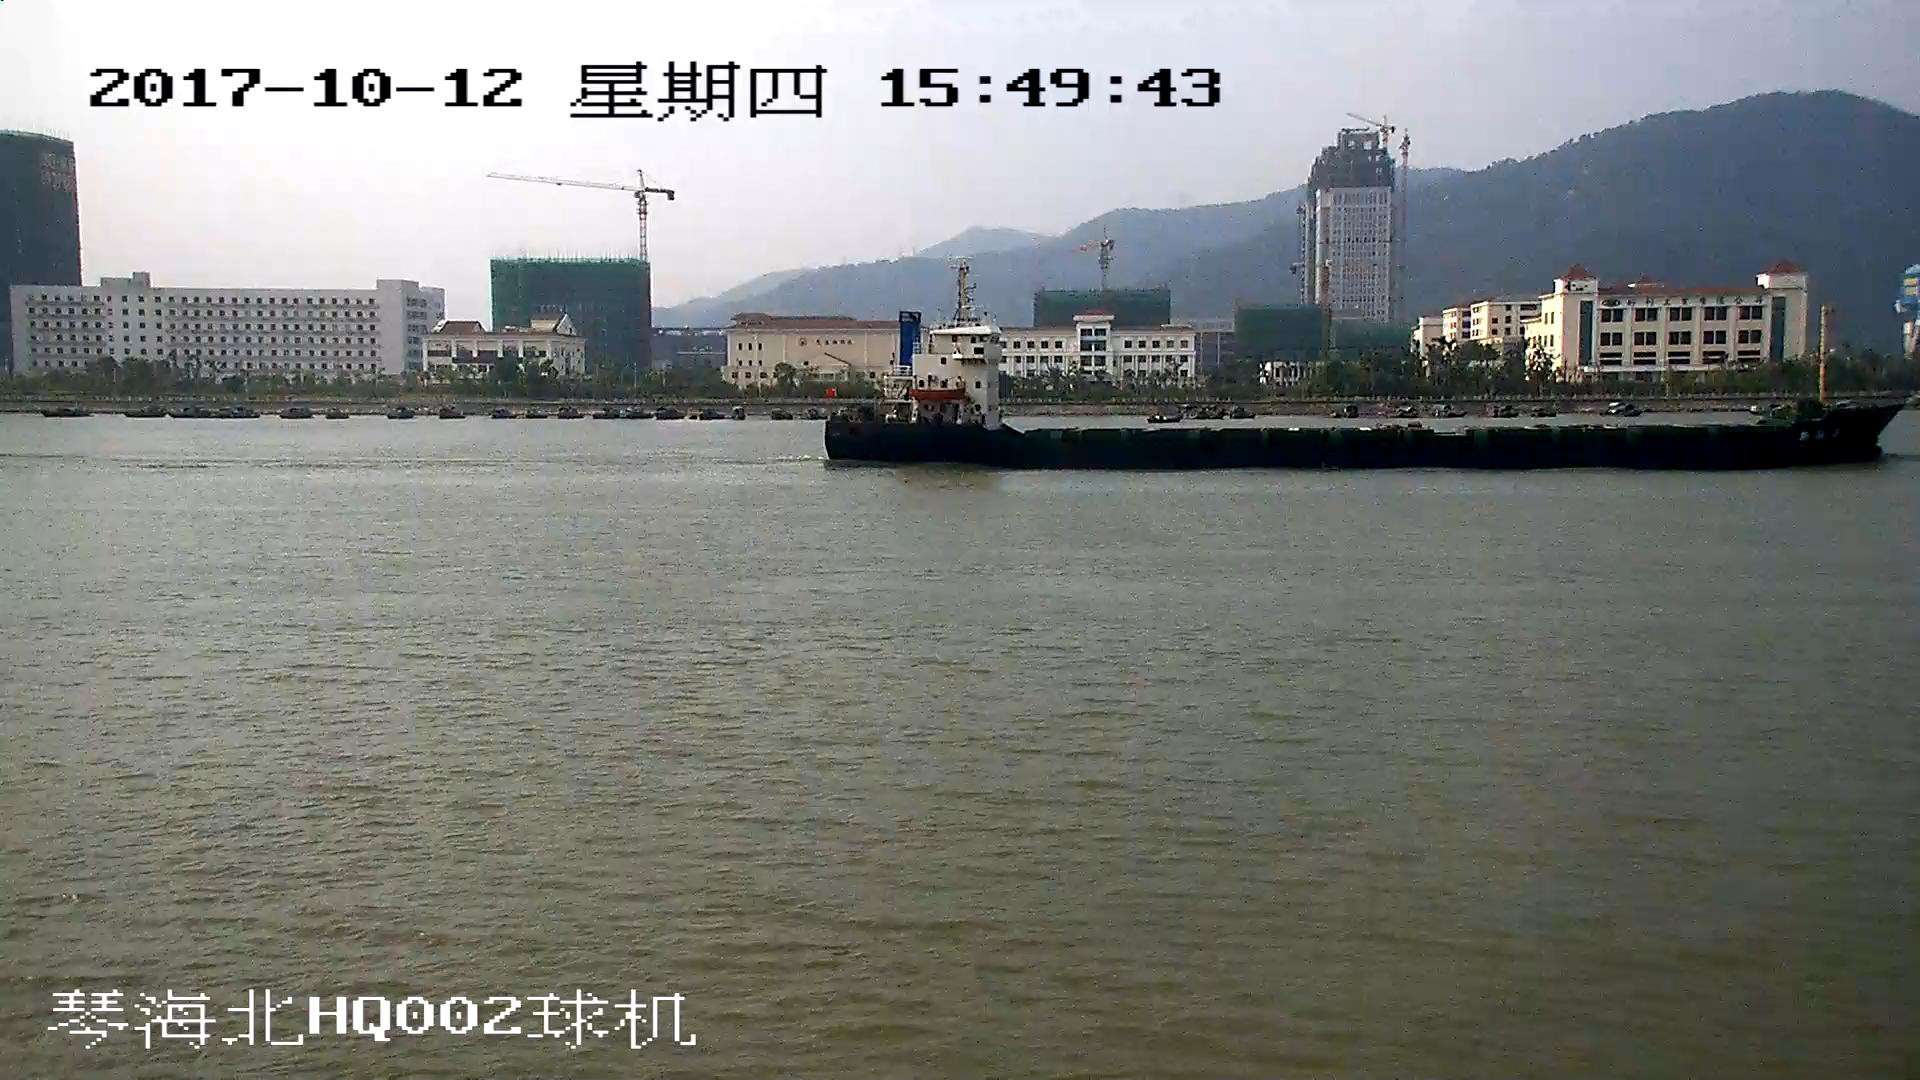general cargo ship: (832, 294, 1910, 468)
